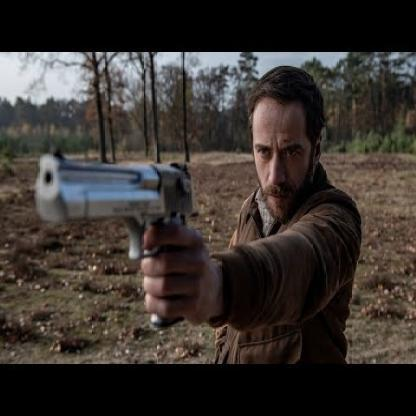Pistol: (29, 144, 196, 331)
